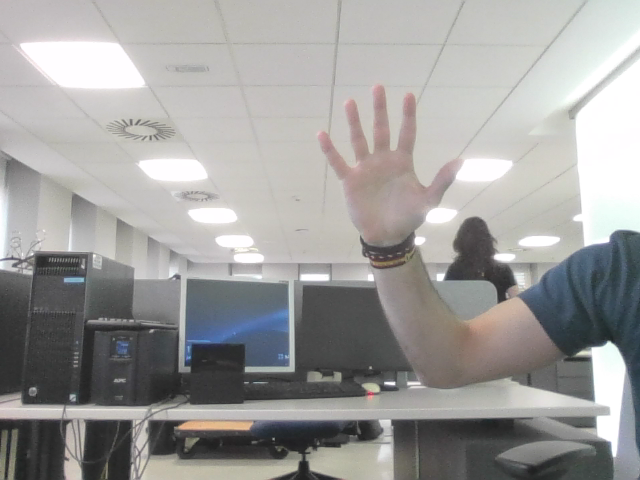Mano Abierta: (326, 97, 448, 215)
